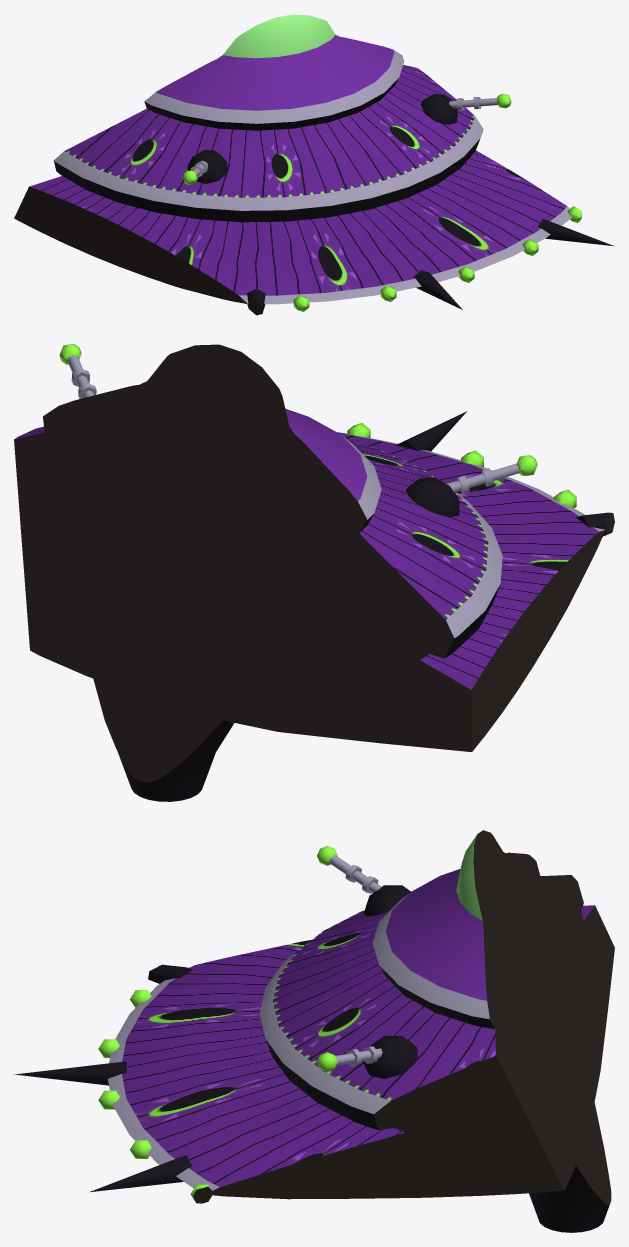
File: dreadnought_debris5.obj
The picture shows the model from 3 angles, top to bottom: view 1: azimuth 30°, elevation 25°; view 2: azimuth 150°, elevation 25°; view 3: azimuth 270°, elevation 25°; orthographic projection. The views are drawn at different scales.
Visible parts, largest first — view 1: tier1, tier2, tier3, crown, rim_spike, turret, rim_light; view 2: tier1, tier2, tier3, lens_mount, crown, turret, rim_spike, turret_gun, rim_light, turret_gun_ring, turret_gun_tip; view 3: tier1, tier2, tier3, lens_mount, rim_spike, crown, turret, rim_light, turret_gun, turret_gun_ring, turret_gun_tip.
Boxes of the visible parts, x1,y1,x2,y2 form: tier1: (14,150,571,304); tier2: (54,65,483,222); tier3: (144,35,404,130); crown: (223,14,335,58); rim_spike: (247,219,614,315); turret: (187,94,457,183); rim_light: (293,206,582,311); tier1: (20,432,605,751); tier2: (14,426,502,658); tier3: (43,381,381,532); lens_mount: (93,678,234,801); crown: (146,344,288,425); turret: (405,477,459,517); rim_spike: (395,411,614,536); turret_gun: (68,355,519,492); rim_light: (347,423,576,508); turret_gun_ring: (71,368,493,493); turret_gun_tip: (59,344,537,475); tier1: (108,905,614,1199); tier2: (259,875,583,1129); tier3: (372,851,540,1029); lens_mount: (529,1102,611,1232); rim_spike: (14,964,192,1192); crown: (456,830,502,921); turret: (364,885,417,1078); rim_light: (98,990,213,1203); turret_gun: (329,855,382,1065); turret_gun_ring: (345,865,378,1066); turret_gun_tip: (317,846,337,1071).
Size of the model in its own units: 48.24 by 32.11 by 45.28.
Materials: 7 (1 with a texture image).
